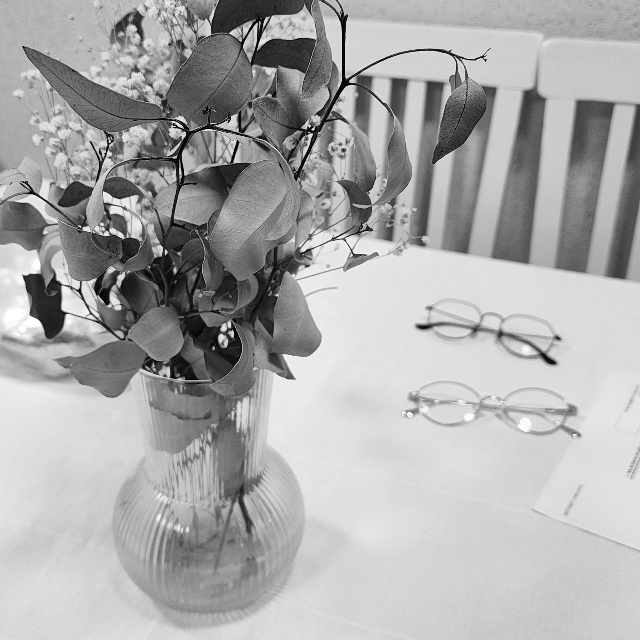glasses: (403, 375, 587, 441), (414, 294, 567, 369)
